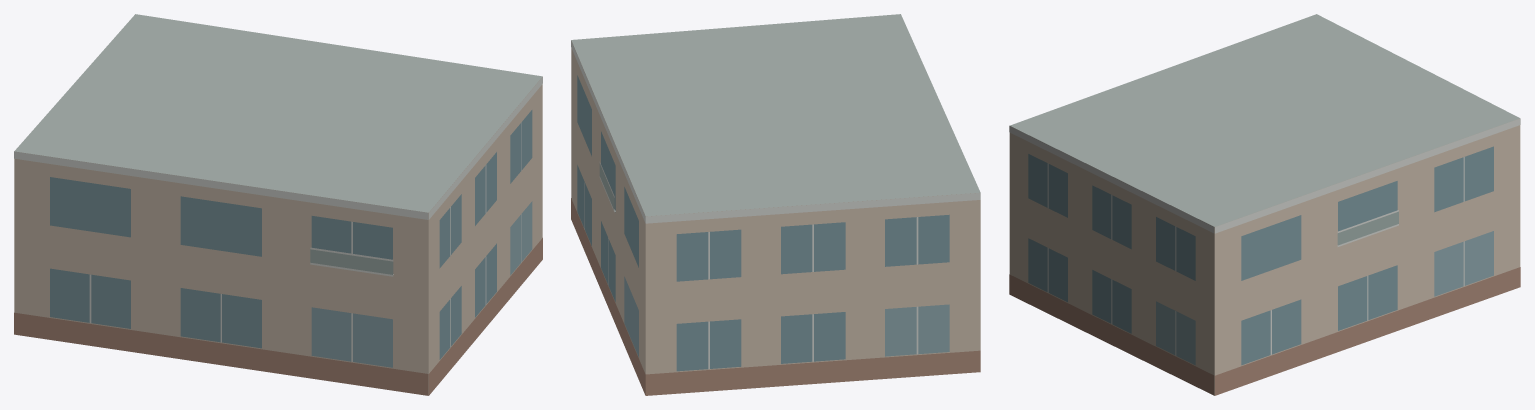
The model's file is survey-upis-32832946.glb.
3 renders of one model, left to right at view 1: azimuth 30°, elevation 25°; view 2: azimuth 150°, elevation 25°; view 3: azimuth 270°, elevation 25°, orthographic. The views are drawn at different scales.
Visible parts, largest first — view 1: survey-upis-32832946.tmp; view 2: survey-upis-32832946.tmp; view 3: survey-upis-32832946.tmp.
Part boxes in pixels (x1,y1,x2,y2): survey-upis-32832946.tmp: [14, 14, 542, 395]; survey-upis-32832946.tmp: [571, 14, 980, 395]; survey-upis-32832946.tmp: [1009, 14, 1520, 395].
Bounding box in the file's own units: 16.51 × 6.1 × 16.73.
